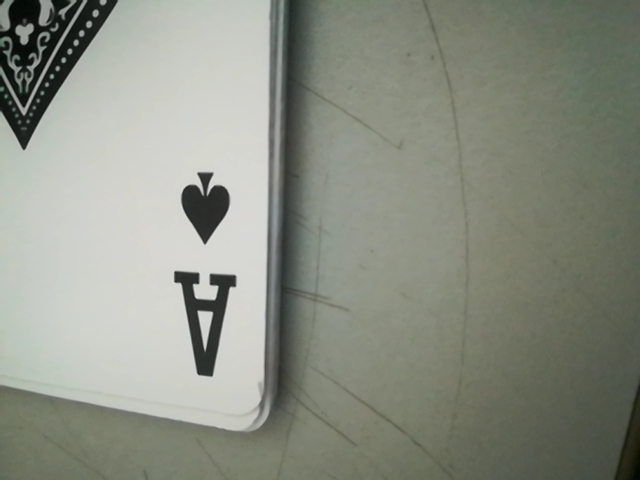ht a: (172, 165, 240, 389)
